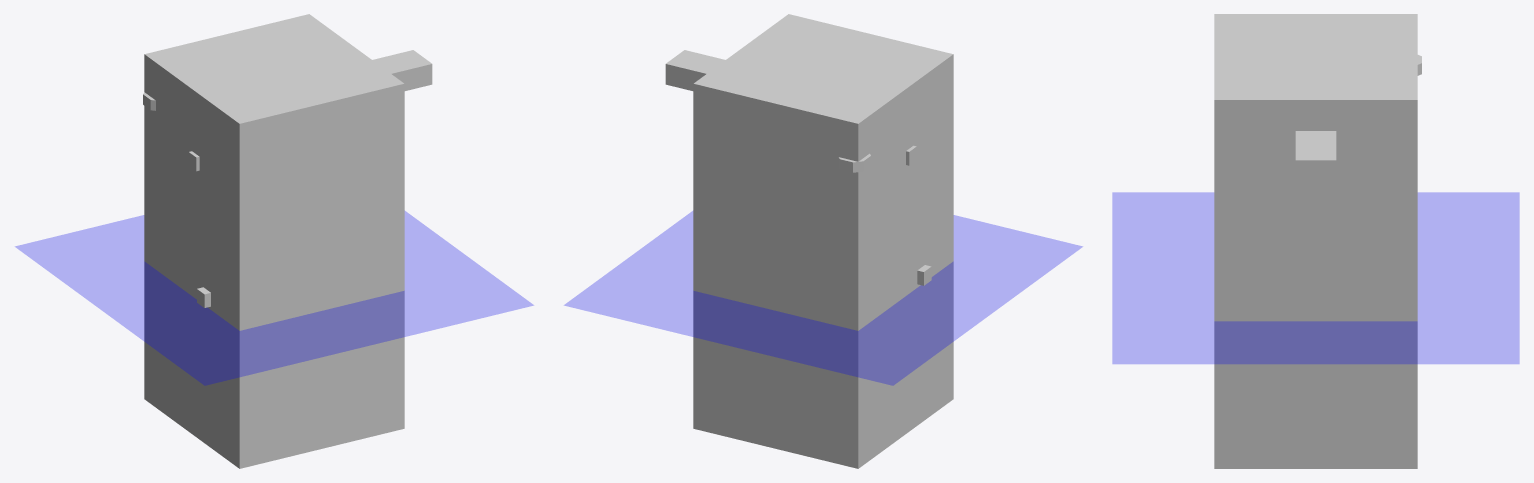
The model's file is TreeLevel.glb.
The picture shows the model from 3 angles, left to right: view 1: azimuth 30°, elevation 25°; view 2: azimuth 150°, elevation 25°; view 3: azimuth 270°, elevation 25°; orthographic projection. The views are drawn at different scales.
Parts seen in each view (by area): view 1: Tree, Posion Layer, Crash Landing-col; view 2: Tree, Posion Layer, Crash Landing-col; view 3: Tree, Posion Layer, Crash Landing-col.
Part boxes in pixels (bbox=[...]): Tree: bbox=[144, 14, 404, 468]; Posion Layer: bbox=[15, 211, 533, 385]; Crash Landing-col: bbox=[372, 50, 432, 90]; Tree: bbox=[693, 14, 953, 468]; Posion Layer: bbox=[564, 211, 1082, 385]; Crash Landing-col: bbox=[665, 50, 725, 90]; Tree: bbox=[1214, 14, 1417, 468]; Posion Layer: bbox=[1112, 192, 1519, 363]; Crash Landing-col: bbox=[1295, 131, 1336, 196].
Size of the model in its own units: 100 by 100 by 100.
